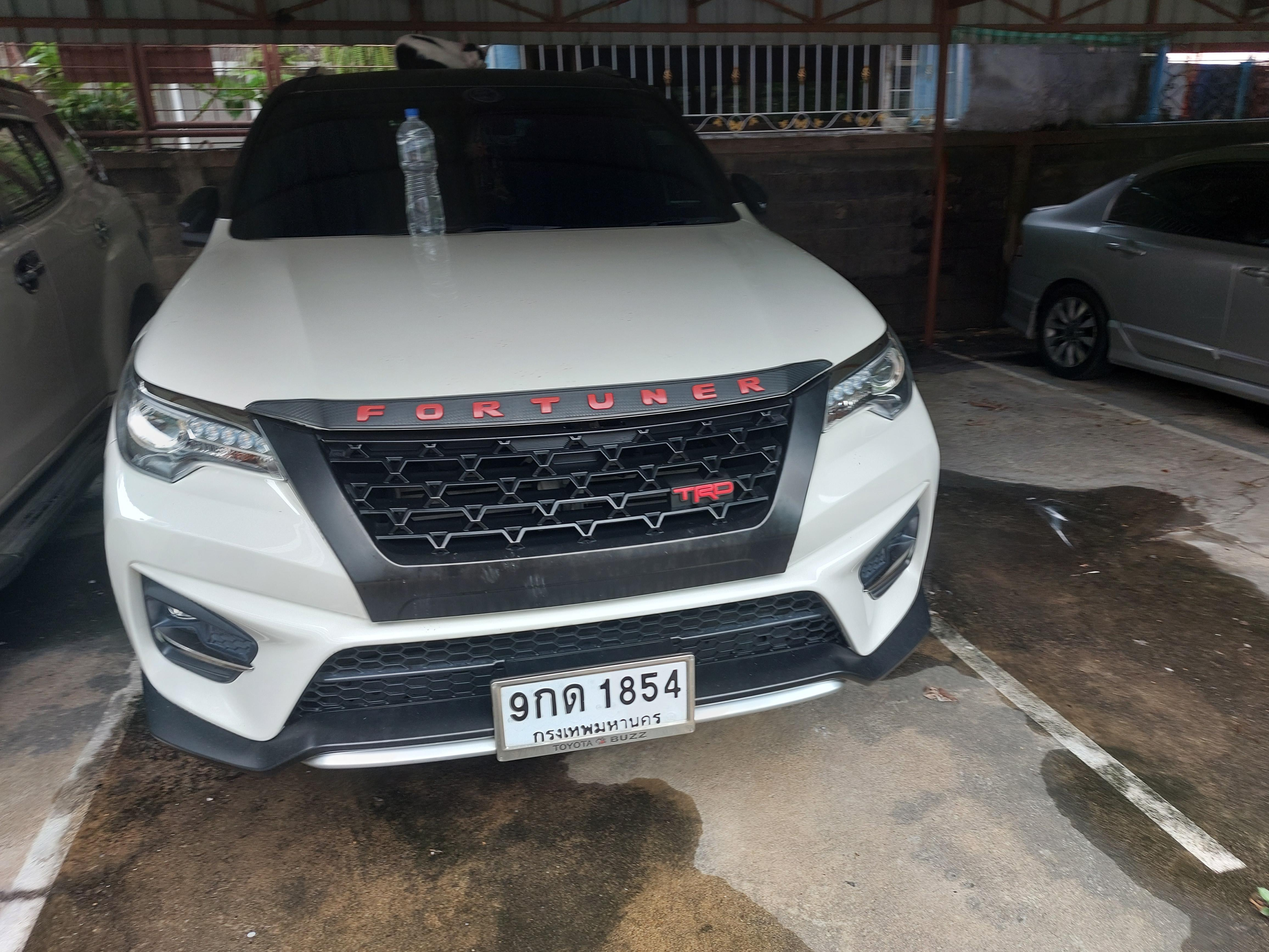license-plate: (485, 651, 703, 765)
